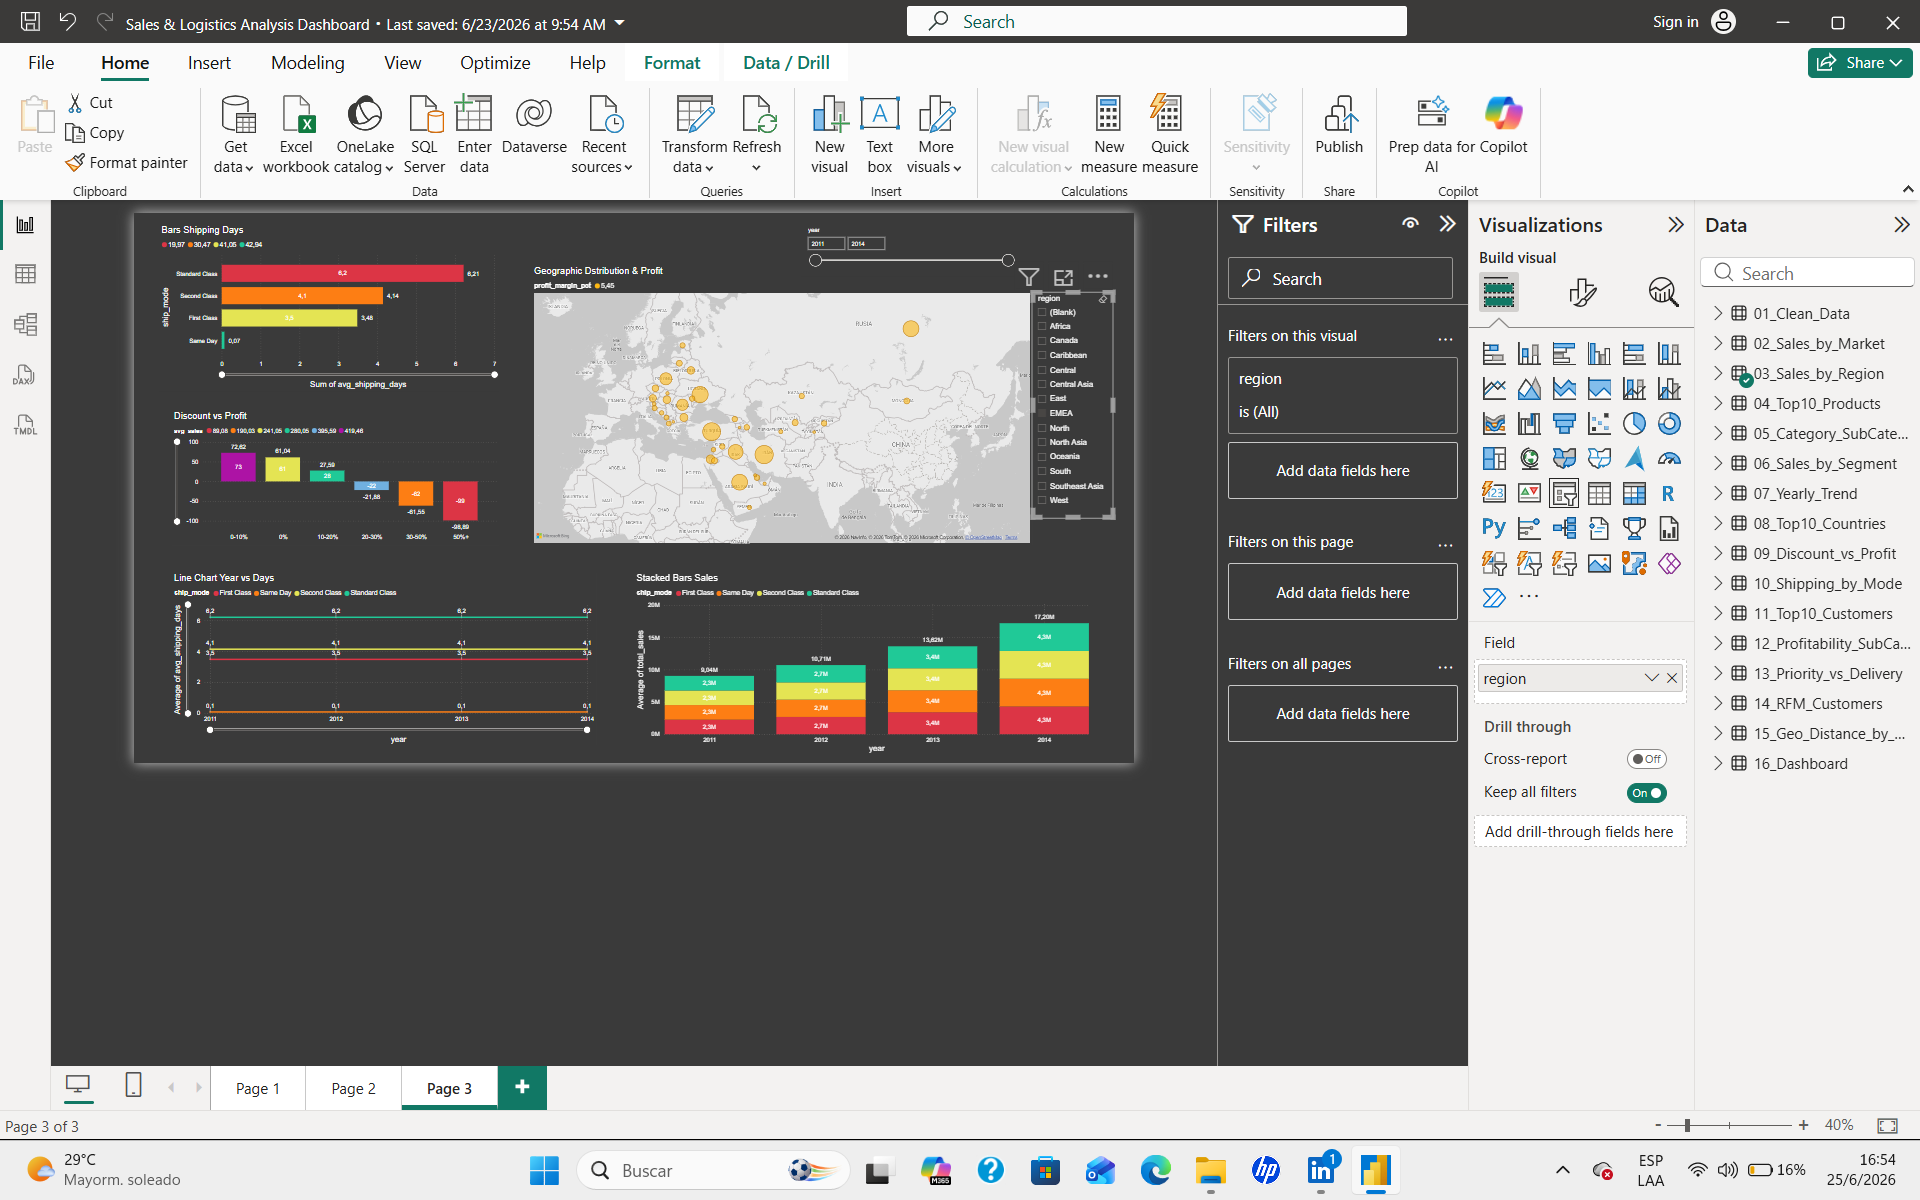

What the dashboard file says about the page in this screenshot:
{"tool":"powerbi","page":{"name":"Page 3","canvas":[2000,1100],"ordinal":2},"visuals":[{"type":"map","title":"Geographic Dstribution & Profit ","fields":{"Category":["16_Dashboard.country","16_Dashboard.region"],"Y":["Avg(16_Dashboard.lat)"],"X":["Avg(16_Dashboard.lon)"],"Size":["Sum(16_Dashboard.sales)"],"Series":["03_Sales_by_Region.profit_margin_pct"]},"box":[794,106,1002,560],"z":0},{"type":"lineChart","title":"Line Chart Year vs Days","fields":{"Series":["10_Shipping_by_Mode.ship_mode"],"Category":["07_Yearly_Trend.year"],"Y":["Avg(10_Shipping_by_Mode.avg_shipping_days)"]},"box":[75,720,850,345],"z":1000},{"type":"barChart","title":"Bars Shipping Days","fields":{"Category":["10_Shipping_by_Mode.ship_mode"],"Series":["10_Shipping_by_Mode.avg_shipping_cost"],"Y":["Sum(10_Shipping_by_Mode.avg_shipping_days)"]},"box":[50,22.5,680,332.5],"z":2000},{"type":"columnChart","title":"Stacked Bars Sales","fields":{"Category":["07_Yearly_Trend.year"],"Y":["Avg(07_Yearly_Trend.total_sales)"],"Series":["01_Clean_Data.ship_mode"]},"box":[1000,720,915,365],"z":3000},{"type":"columnChart","title":"Discount vs Profit","fields":{"Category":["09_Discount_vs_Profit.discount_bin"],"Series":["09_Discount_vs_Profit.avg_sales"],"Y":["Avg(09_Discount_vs_Profit.avg_profit)"]},"box":[75,395,655,270],"z":4000},{"type":"slicer","fields":{"Values":["03_Sales_by_Region.region"]},"box":[1796,158,164,454],"z":5000},{"type":"slicer","fields":{"Values":["07_Yearly_Trend.year"]},"box":[1335,22.5,435,102.5],"z":6000}]}

Visuals, with their boxes on the page's 2000x1100 design canvas (x1, y1, x2, y2). These are canvas units, not pixel positions in the 1920x1200 screenshot, which may show the page scaled, cropped or inside an application window:
"Geographic Dstribution & Profit " map: 794 106 1796 666
"Line Chart Year vs Days" lineChart: 75 720 925 1065
"Bars Shipping Days" barChart: 50 22 730 355
"Stacked Bars Sales" columnChart: 1000 720 1915 1085
"Discount vs Profit" columnChart: 75 395 730 665
slicer - 03_Sales_by_Region.region: 1796 158 1960 612
slicer - 07_Yearly_Trend.year: 1335 22 1770 125
